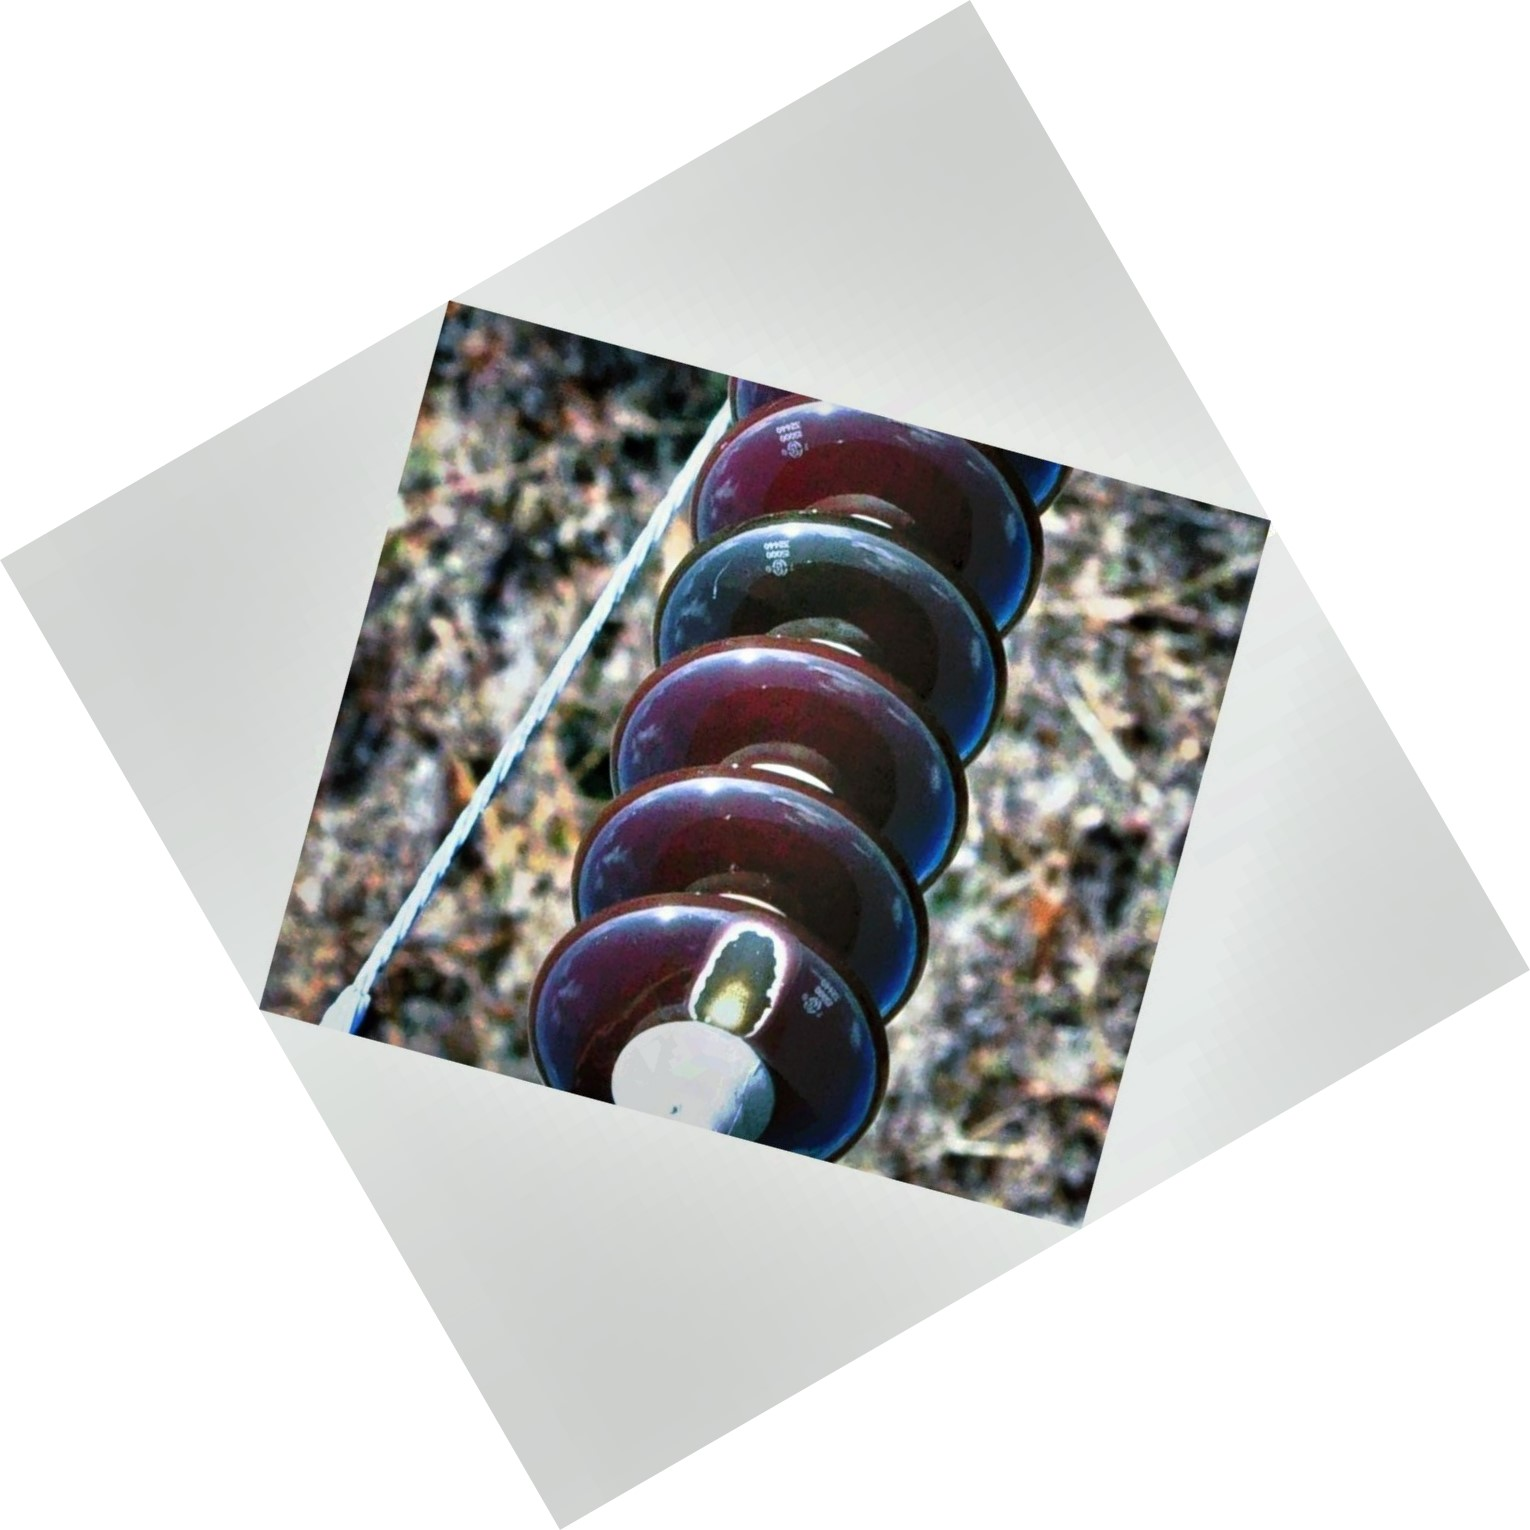Insulator flashover: (509, 880, 901, 1192)
